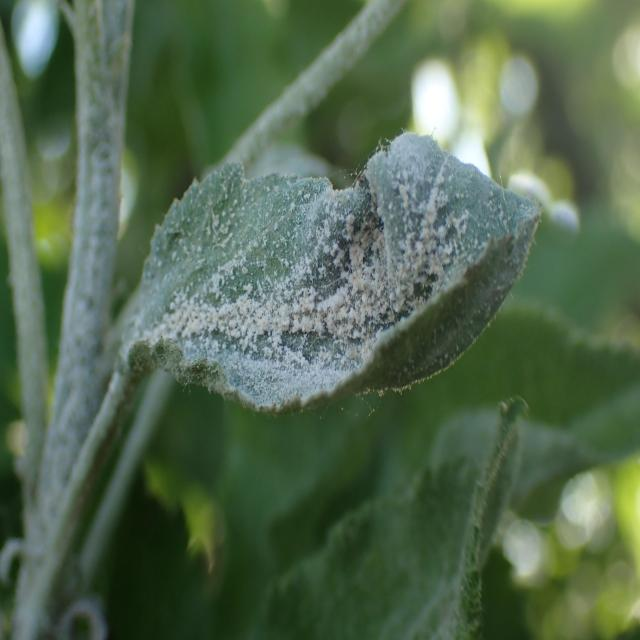Powdery_mildew: (105, 128, 536, 405)
